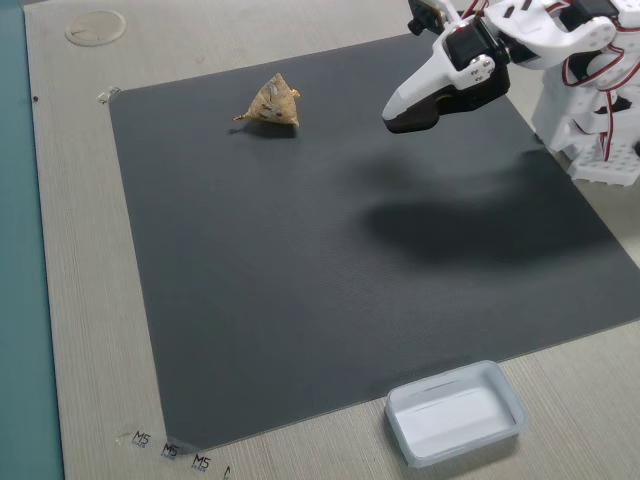objects: (380, 3, 501, 134)
